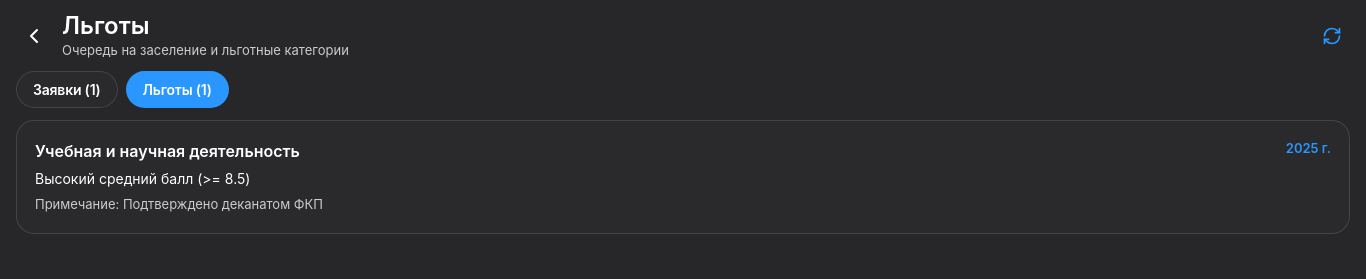
M4 Screens Suite › DormitoryScreen respects initialTab and switches between Заявки and Льготы
The image size is (1366, 279).
Expected: the text "Учебная и научная деятельность" is shown, [35,139,300,163]
Step 1. Click the button "Заявки (1)" → (67,89), box [16,70,118,108]
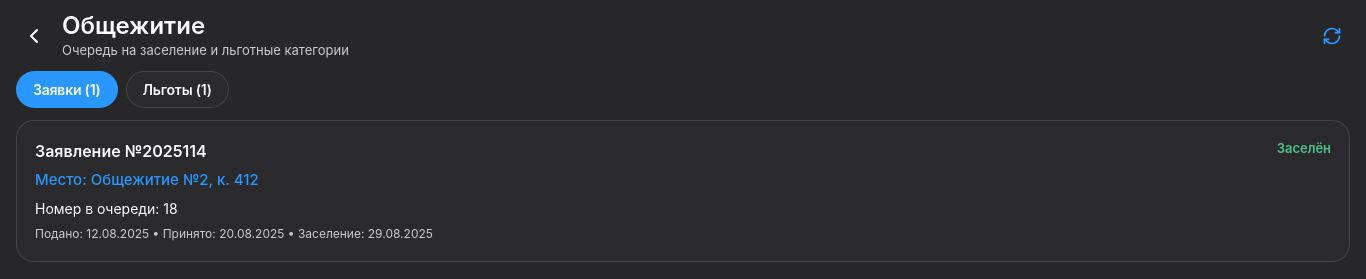
Expected: the text "Место: Общежитие №2, к. 412" is shown, [35,170,259,189]
